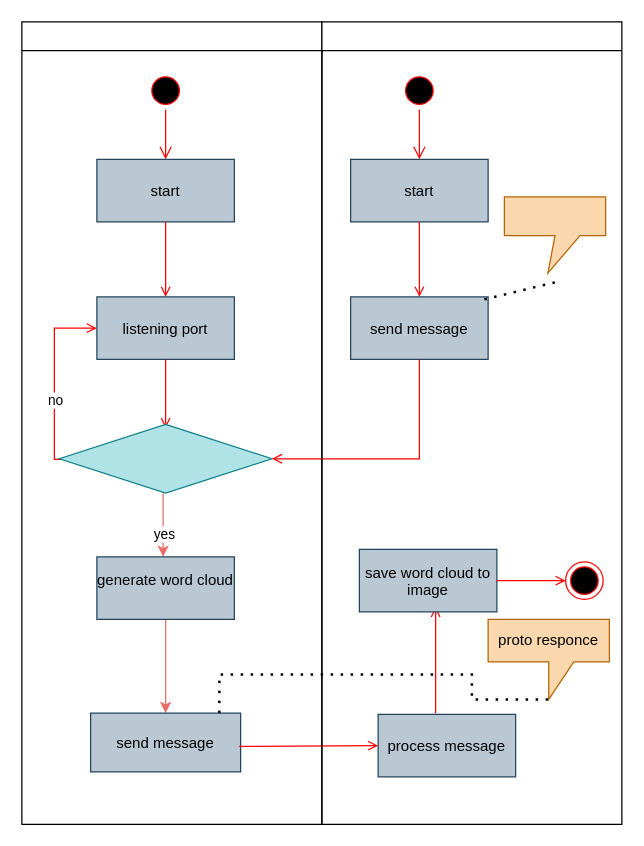
Image size: 644x846. Some labels were removed from this diagram. Each missing label, with the box of its shape:
gRPC client: (321, 21, 622, 824)
gRPC server: (21, 21, 322, 824)
proto request: (503, 196, 606, 273)
reveive message: (58, 423, 272, 493)
